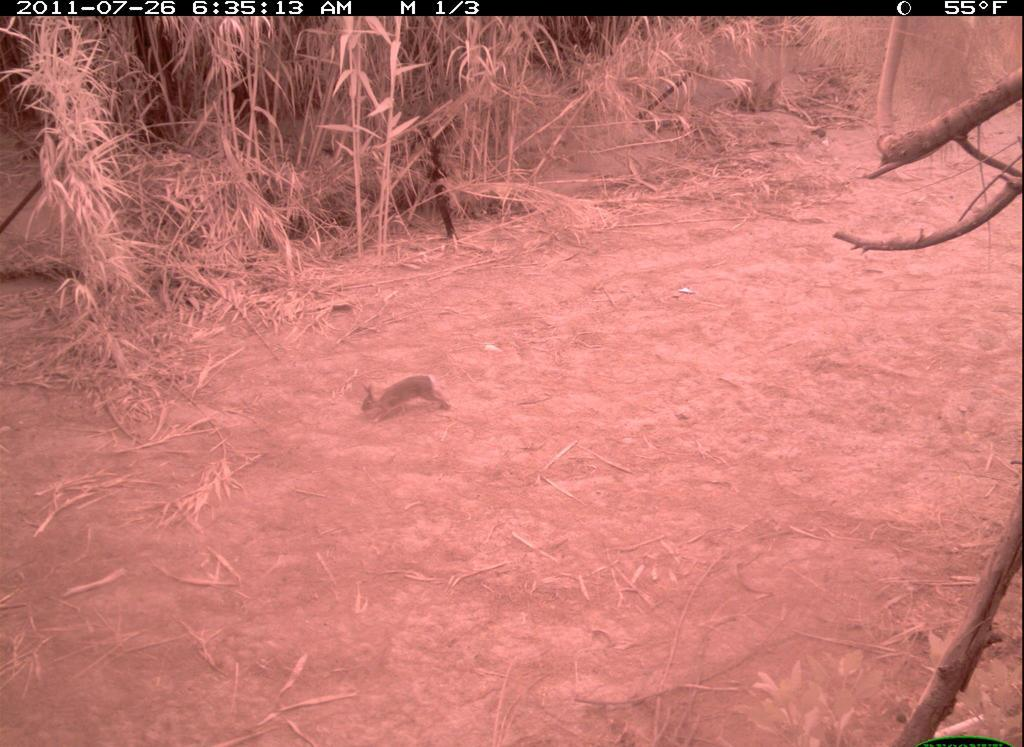rabbit: (346, 370, 459, 432)
